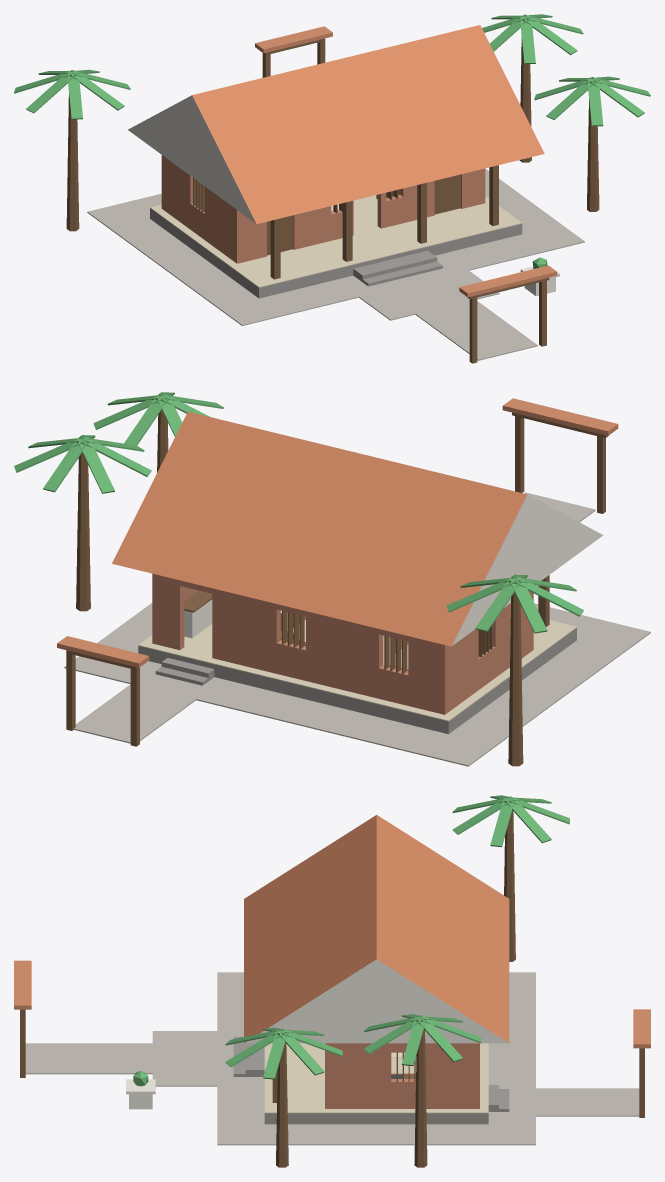
File: house.glb
3 views of the same model, one above another, from view 1: azimuth 30°, elevation 25°; view 2: azimuth 150°, elevation 25°; view 3: azimuth 270°, elevation 25° (orthographic). The views are drawn at different scales.
Visible parts, largest first — view 1: House_roof, WALK_path, House_timber, House_walls, WALK_floor, House_leaf, House_plinth, House_pot, WALK_steps; view 2: House_roof, WALK_path, House_walls, House_timber, House_leaf, House_plinth, WALK_floor, House_pot, WALK_steps, House_trim; view 3: House_roof, WALK_path, House_walls, House_leaf, House_timber, WALK_floor, House_plinth, House_pot, WALK_steps, House_trim.
Boxes of the visible parts, bbox=[...] form: House_roof: bbox=[128, 25, 544, 223]; WALK_path: bbox=[87, 169, 584, 360]; House_timber: bbox=[66, 37, 599, 363]; House_walls: bbox=[161, 155, 485, 263]; WALK_floor: bbox=[150, 195, 522, 287]; House_leaf: bbox=[14, 14, 650, 268]; House_plinth: bbox=[150, 208, 522, 298]; House_pot: bbox=[255, 26, 557, 297]; WALK_steps: bbox=[353, 250, 442, 286]; House_roof: bbox=[112, 411, 603, 646]; WALK_path: bbox=[64, 492, 650, 766]; House_walls: bbox=[152, 573, 533, 714]; House_timber: bbox=[66, 410, 608, 766]; House_leaf: bbox=[14, 392, 583, 633]; House_plinth: bbox=[138, 628, 576, 734]; WALK_floor: bbox=[138, 610, 576, 721]; House_pot: bbox=[57, 398, 618, 667]; WALK_steps: bbox=[155, 657, 214, 685]; House_trim: bbox=[184, 599, 212, 638]; House_roof: bbox=[244, 815, 509, 1043]; WALK_path: bbox=[25, 972, 639, 1145]; House_walls: bbox=[325, 1043, 479, 1108]; House_leaf: bbox=[133, 795, 569, 1086]; House_timber: bbox=[20, 810, 644, 1167]; WALK_floor: bbox=[264, 1043, 488, 1113]; House_plinth: bbox=[264, 1113, 488, 1124]; House_pot: bbox=[14, 960, 650, 1048]; WALK_steps: bbox=[233, 1036, 509, 1111]; House_trim: bbox=[126, 1079, 155, 1109].
Bounding box in the file's own units: 20.58 × 6.45 × 21.6.
